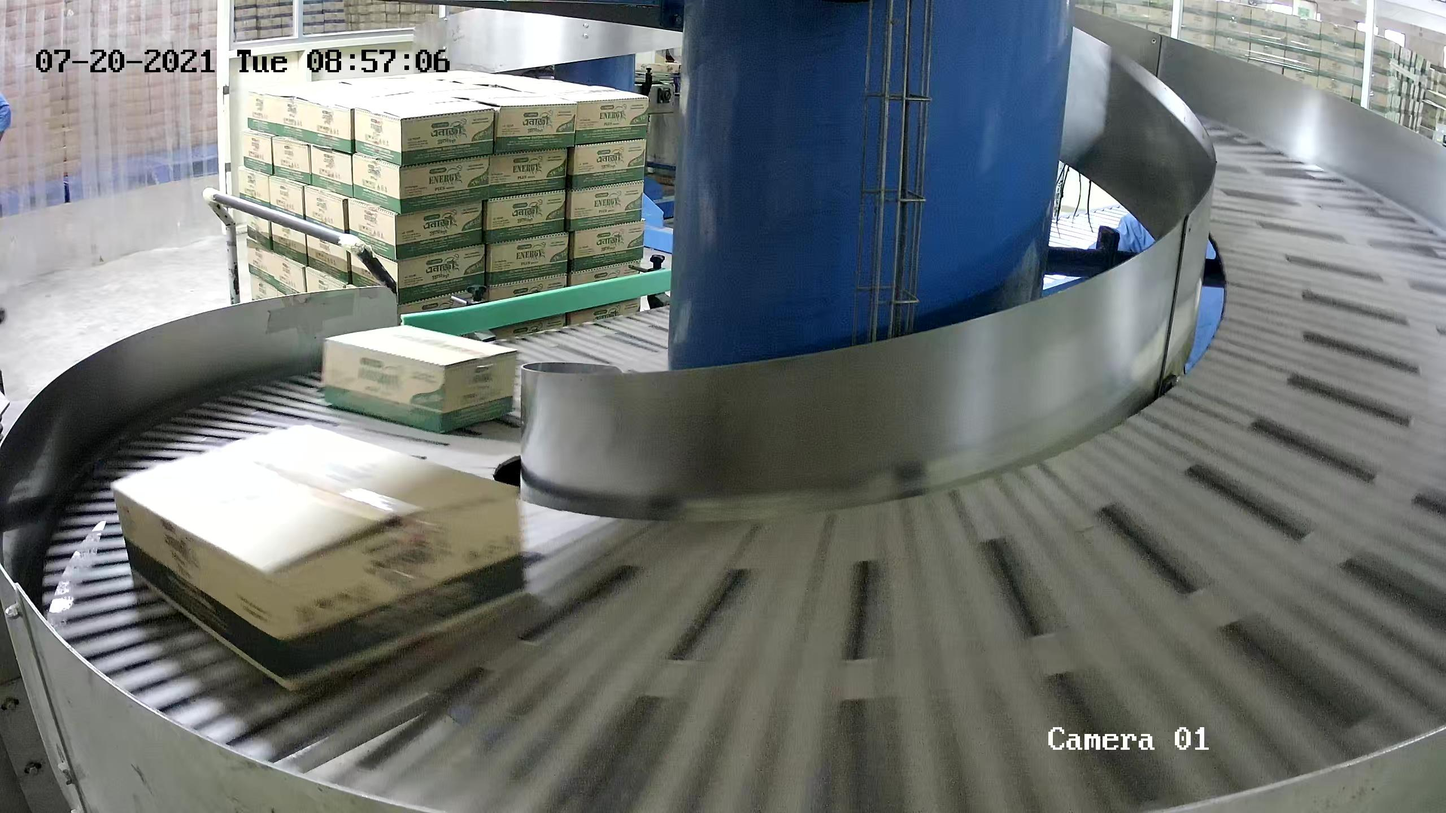Box: (109, 422, 532, 694), (320, 323, 519, 434)
